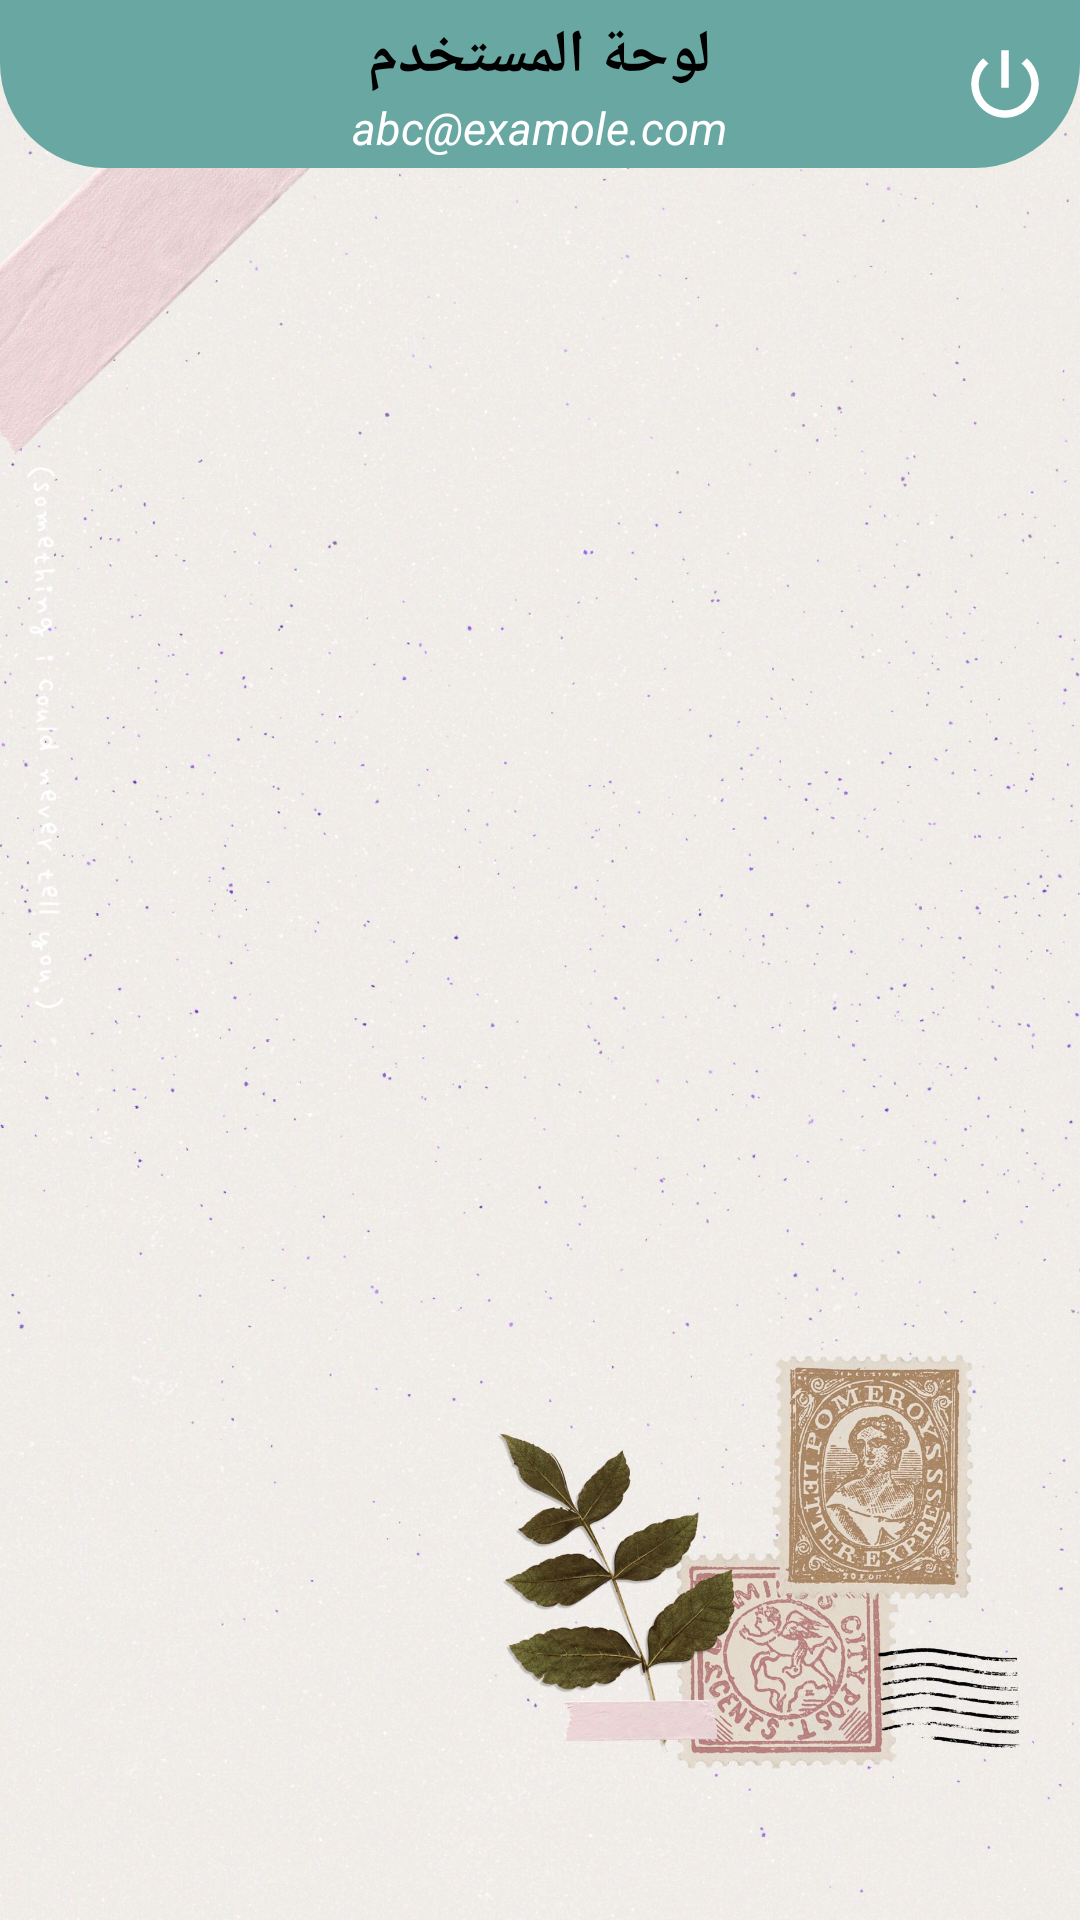

Icons on this 1080x1920 Android screen, each with its box as (x1, y1, x2, y2):
power: (971, 50, 1039, 118)
